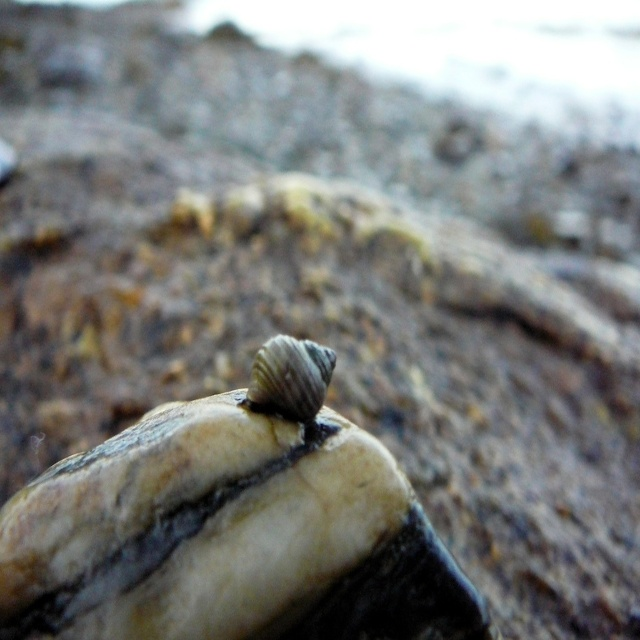Snail: (241, 333, 338, 427)
